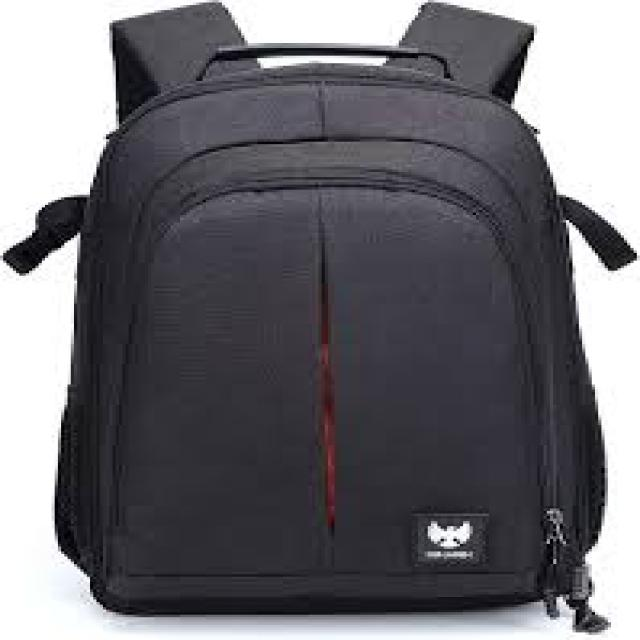backpack: (1, 1, 638, 631)
